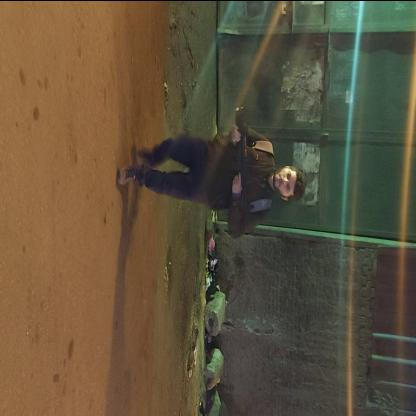long weapon: (222, 96, 257, 214)
